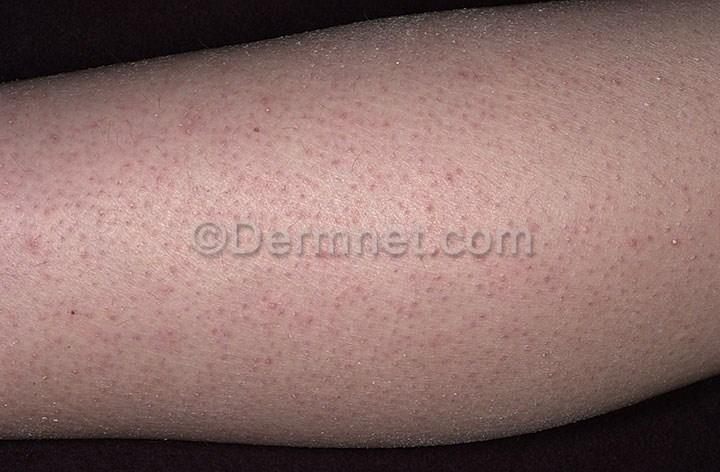edema 1: (3, 41, 712, 409)
xerosis 1: (0, 0, 624, 105), (0, 384, 662, 452)
